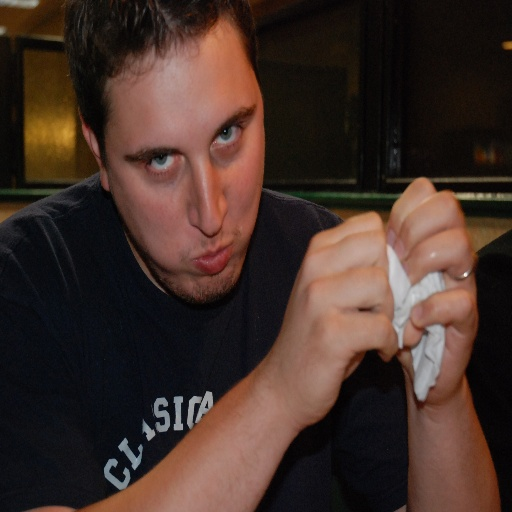hand: (187, 216, 414, 476), (383, 174, 481, 405)
